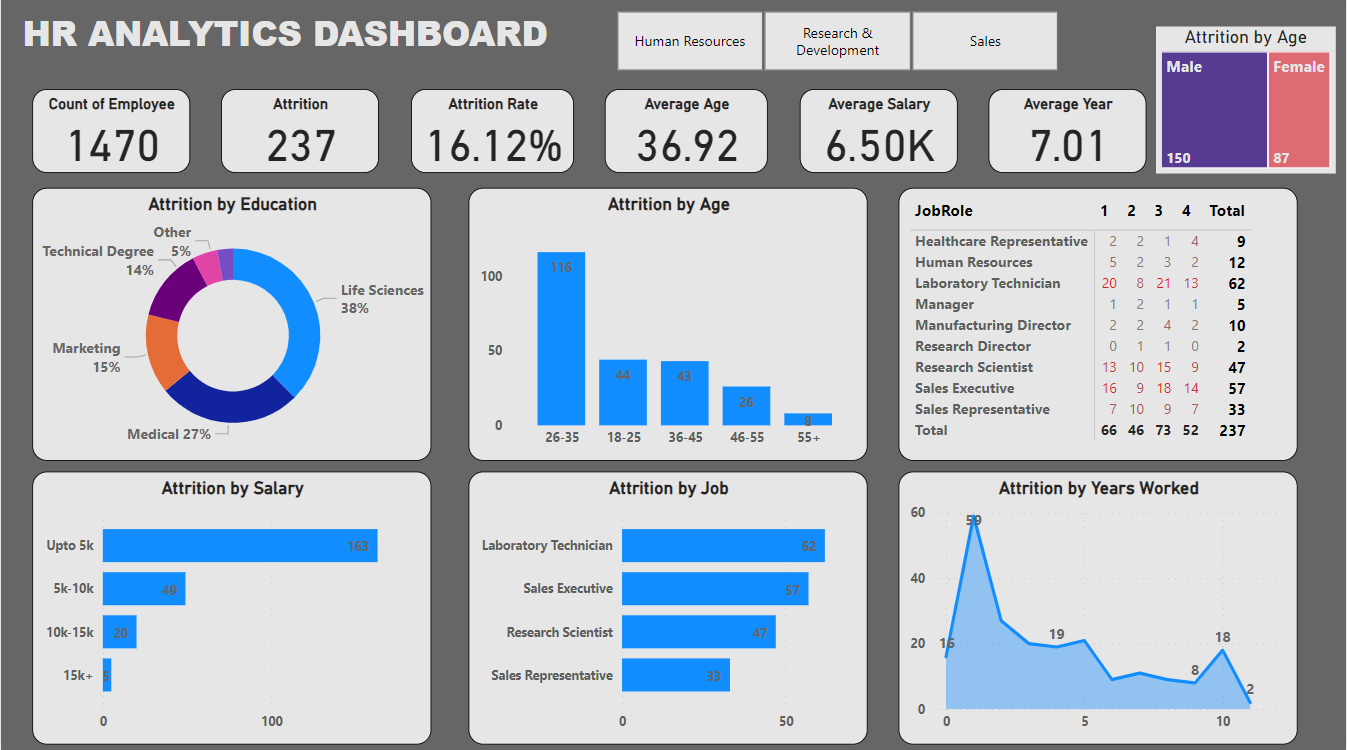

The dashboard page shown, as its layout file describes it:
{"tool":"powerbi","page":{"name":"HR Analytics Dashboard","canvas":[1280,720],"ordinal":0},"visuals":[{"type":"card","title":"Count of Employee","fields":{"Values":["CountNonNull(HR_Analytics.EmpID)"]},"box":[30,90,150,80],"z":0},{"type":"card","title":"Attrition","fields":{"Values":["CountNonNull(HR_Analytics.Attrition_Count)"]},"box":[210,90,150,80],"z":1000},{"type":"card","title":"Attrition Rate","fields":{"Values":["HR_Analytics.Attrition_Rate"]},"box":[390,90,155,80],"z":2000},{"type":"card","title":"Average Age ","fields":{"Values":["Avg(HR_Analytics.Age)"]},"box":[575,90,155,80],"z":3000},{"type":"card","title":"Average Salary ","fields":{"Values":["Avg(HR_Analytics.MonthlyIncome)"]},"box":[760.5,90,150,80],"z":4000},{"type":"card","title":"Average Year","fields":{"Values":["Avg(HR_Analytics.YearsAtCompany)"]},"box":[940,90,150,80],"z":5000},{"type":"donutChart","title":"Attrition by Education","fields":{"Category":["HR_Analytics.EducationField"],"Y":["Sum(HR_Analytics.Attrition_Count)"]},"box":[30,185,380,260],"z":6000},{"type":"clusteredColumnChart","title":"Attrition by Age","fields":{"Category":["HR_Analytics.AgeGroup"],"Y":["Sum(HR_Analytics.Attrition_Count)"]},"box":[445,185,380,260],"z":7000},{"type":"pivotTable","fields":{"Rows":["HR_Analytics.JobRole"],"Columns":["HR_Analytics.JobSatisfaction"],"Values":["Sum(HR_Analytics.Attrition_Count)"]},"box":[855,185,380,260],"z":8000},{"type":"clusteredBarChart","title":"Attrition by Salary","fields":{"Category":["HR_Analytics.SalarySlab"],"Y":["Sum(HR_Analytics.Attrition_Count)"]},"box":[30,455,380,260],"z":9000},{"type":"clusteredBarChart","title":"Attrition by Job","fields":{"Category":["HR_Analytics.JobRole"],"Y":["Sum(HR_Analytics.Attrition_Count)"]},"box":[445,455,380,260],"z":10000},{"type":"areaChart","title":"Attrition by Years Worked","fields":{"Category":["HR_Analytics.YearsAtCompany"],"Y":["Sum(HR_Analytics.Attrition_Count)"]},"box":[855,455,380,260],"z":11000},{"type":"treemap","title":"Attrition by Age","fields":{"Group":["HR_Analytics.Gender"],"Values":["Sum(HR_Analytics.Attrition_Count)"]},"box":[1100,30.9,171,140],"z":12000},{"type":"slicer","fields":{"Values":["HR_Analytics.Department"]},"box":[560,10,470,70],"z":13000},{"type":"textbox","box":[15,10,540.3,70.2],"z":14000}]}

Visuals, with their boxes in screenshot pixels (x1, y1, x2, y2), scaled from the page's 1280x720 canvas onto the 1347x750 screenshot:
"Count of Employee" card: 32, 94, 189, 177
"Attrition" card: 221, 94, 379, 177
"Attrition Rate" card: 410, 94, 574, 177
"Average Age " card: 605, 94, 768, 177
"Average Salary " card: 800, 94, 958, 177
"Average Year" card: 989, 94, 1147, 177
"Attrition by Education" donutChart: 32, 193, 431, 464
"Attrition by Age" clusteredColumnChart: 468, 193, 868, 464
pivotTable - HR_Analytics.JobRole x HR_Analytics.JobSatisfaction: 900, 193, 1300, 464
"Attrition by Salary" clusteredBarChart: 32, 474, 431, 745
"Attrition by Job" clusteredBarChart: 468, 474, 868, 745
"Attrition by Years Worked" areaChart: 900, 474, 1300, 745
"Attrition by Age" treemap: 1158, 32, 1338, 178
slicer - HR_Analytics.Department: 589, 10, 1084, 83
textbox: 16, 10, 584, 84
